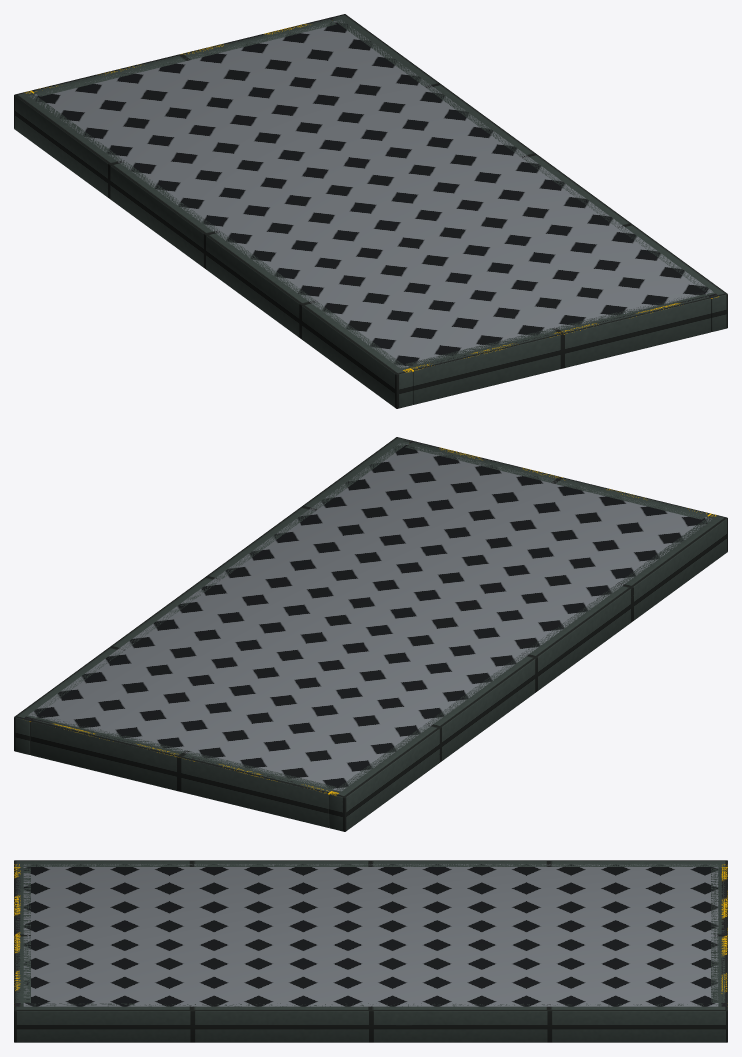
Rendered from WK_FLOOR_CATWALK_C_01.glb.
The picture shows the model from 3 angles, top to bottom: view 1: azimuth 30°, elevation 25°; view 2: azimuth 150°, elevation 25°; view 3: azimuth 270°, elevation 25°; orthographic projection. The views are drawn at different scales.
Parts seen in each view (by area): view 1: WK_FLOOR_CATWALK_C_01; view 2: WK_FLOOR_CATWALK_C_01; view 3: WK_FLOOR_CATWALK_C_01.
Part boxes in pixels (box(x1,y1,x2,y2)): WK_FLOOR_CATWALK_C_01: box(14, 14, 727, 408); WK_FLOOR_CATWALK_C_01: box(14, 437, 727, 831); WK_FLOOR_CATWALK_C_01: box(14, 860, 727, 1042).
Size of the model in its own units: 2 by 0.2 by 4.
Materials: 3 (3 with a texture image).
